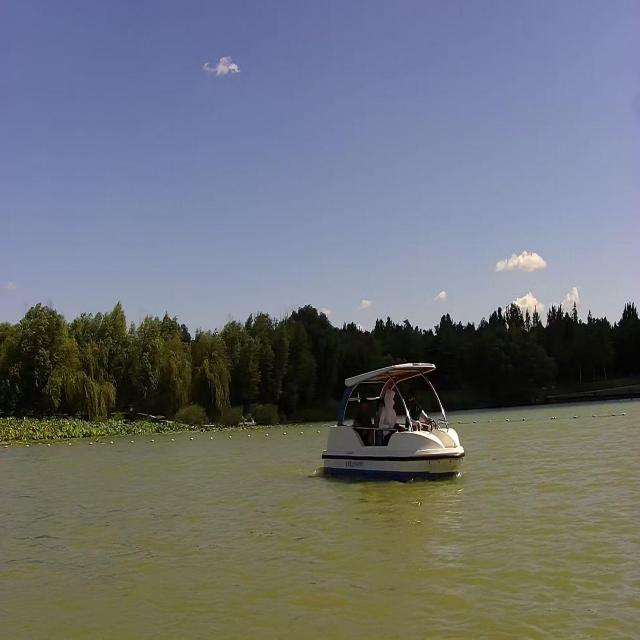CIV_Ship: (315, 361, 472, 478)
